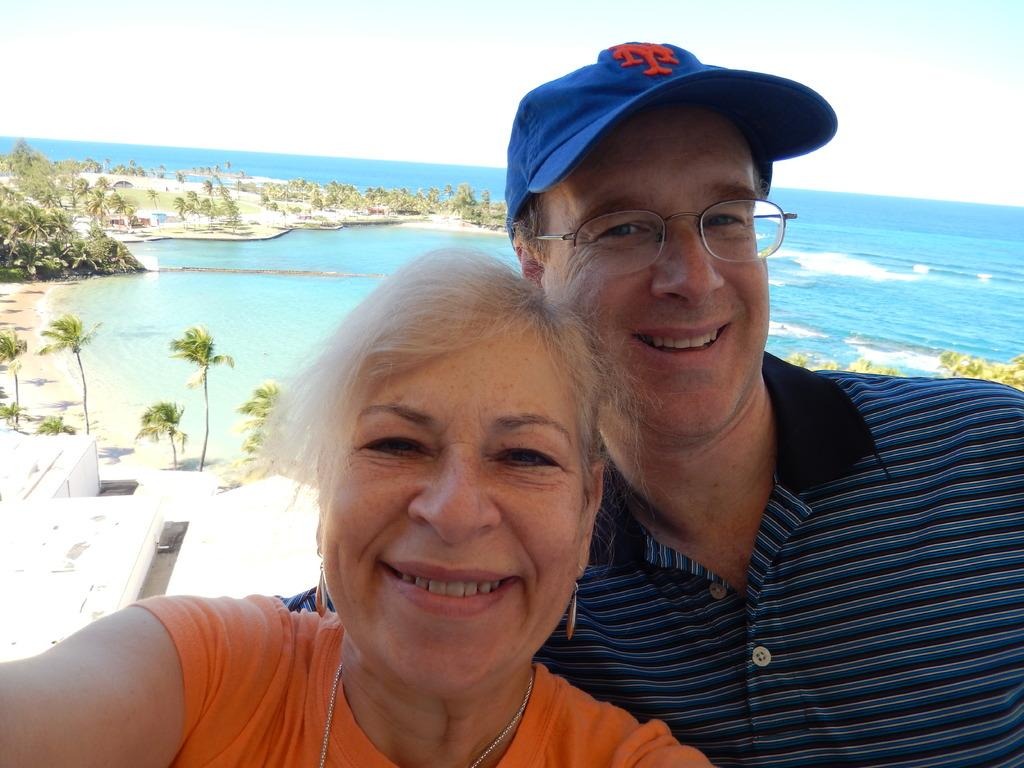Hat: (502, 43, 838, 227)
